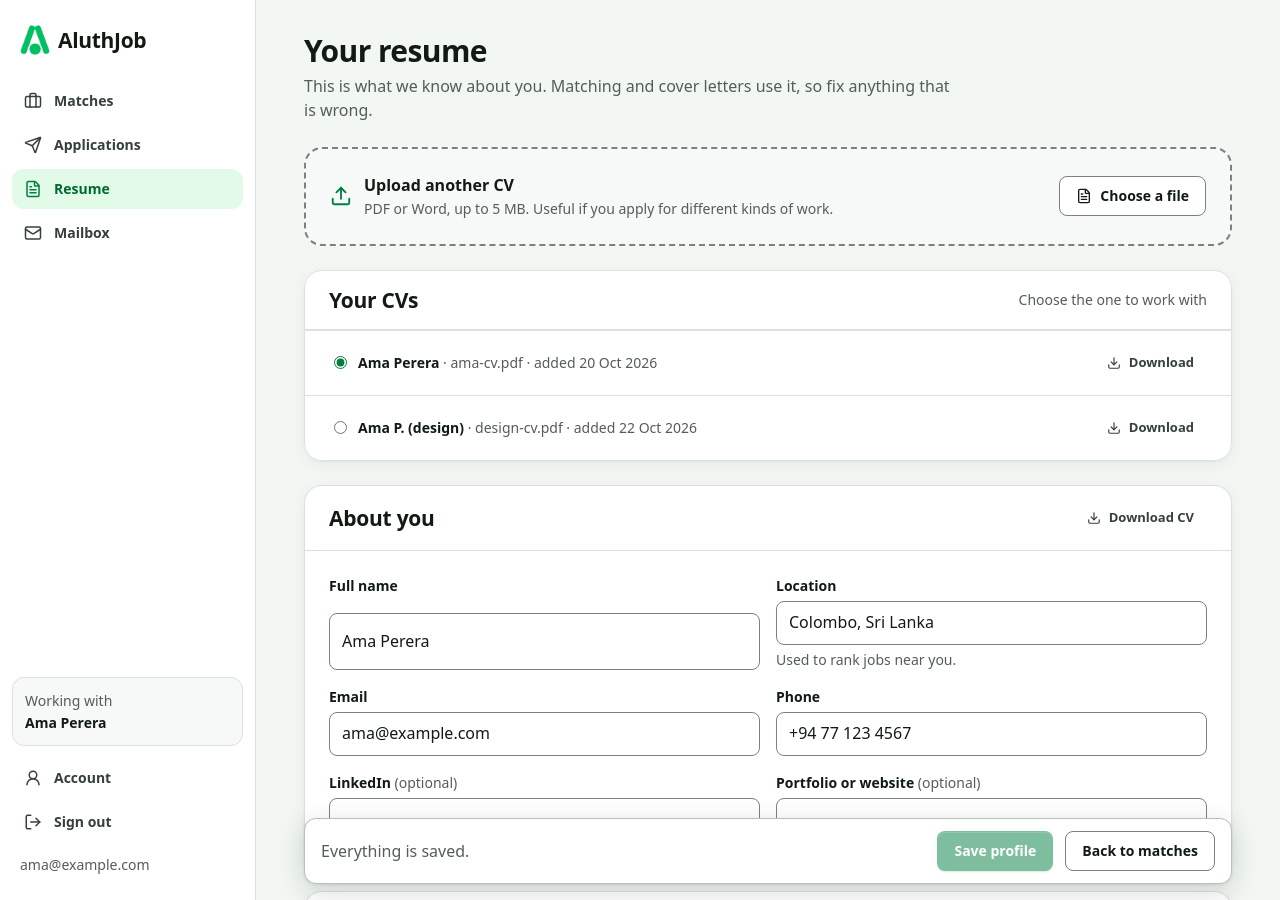
it: resume page › lets the person choose which of several CVs to work with, and remembers it
Expected: the radio button labelled "Ama Perera · ama-cv.pdf · added 20 Oct 2026" is checked, [334,356,347,369]
Click the radio button labelled "Ama P. (design) · design-cv.pdf · added 22 Oct 2026": (340, 428) [334,421,347,434]
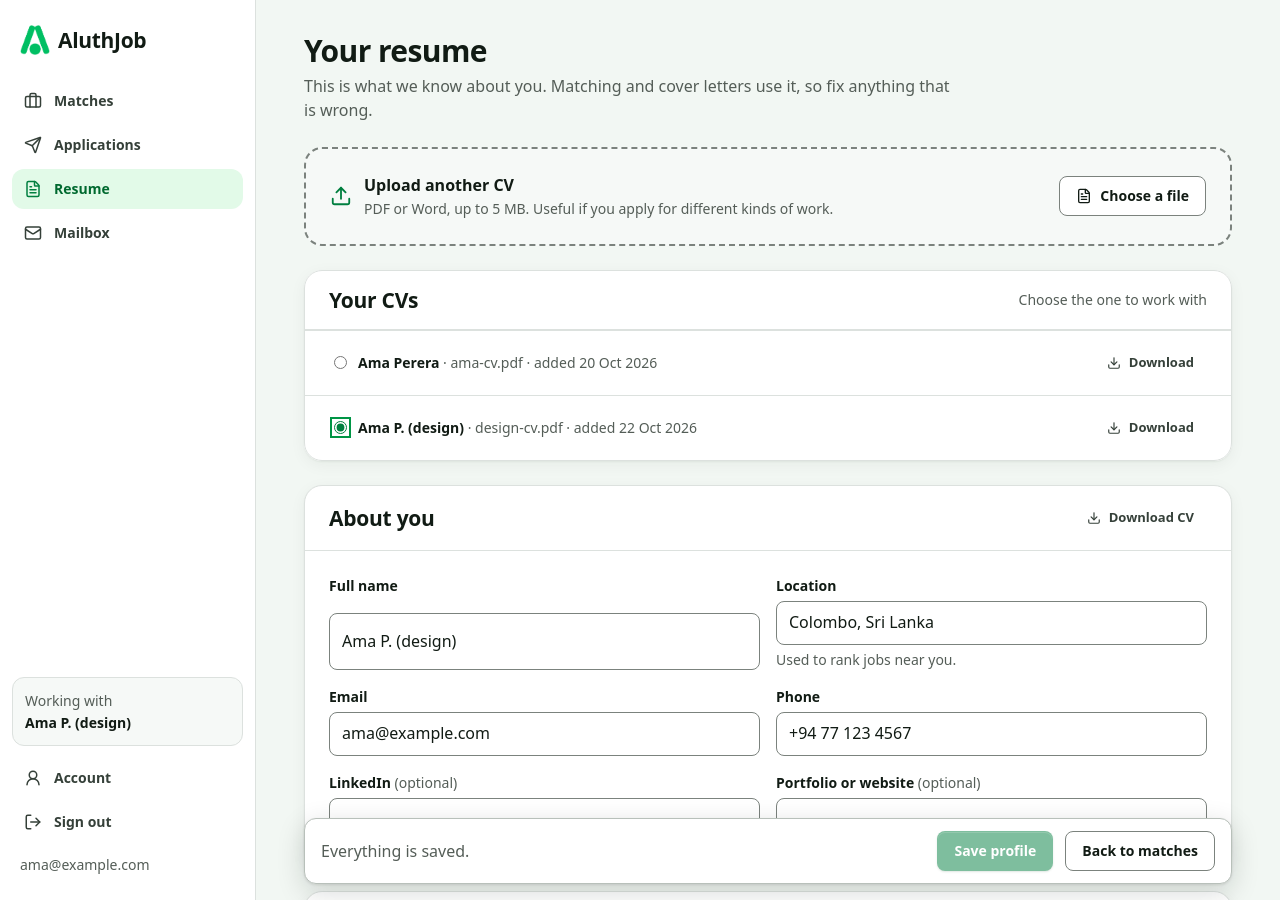
Now the field labelled "Full name" holds "Ama P. (design)", box [329,613,760,670]
